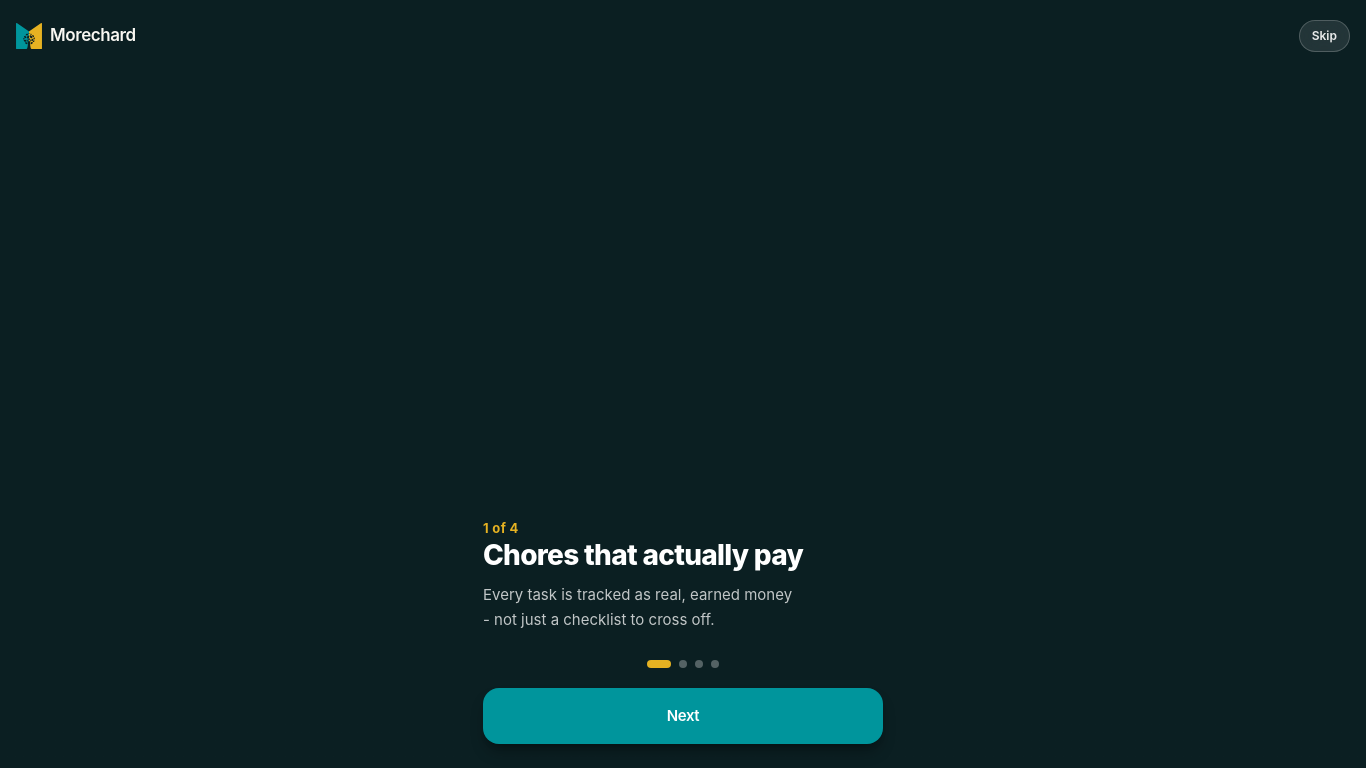
Scenario: OnboardingCarousel › jumps directly to a slide when its dot is tapped
Click the tab named "Go to slide 3" at (699, 664), box [695,660,703,668]
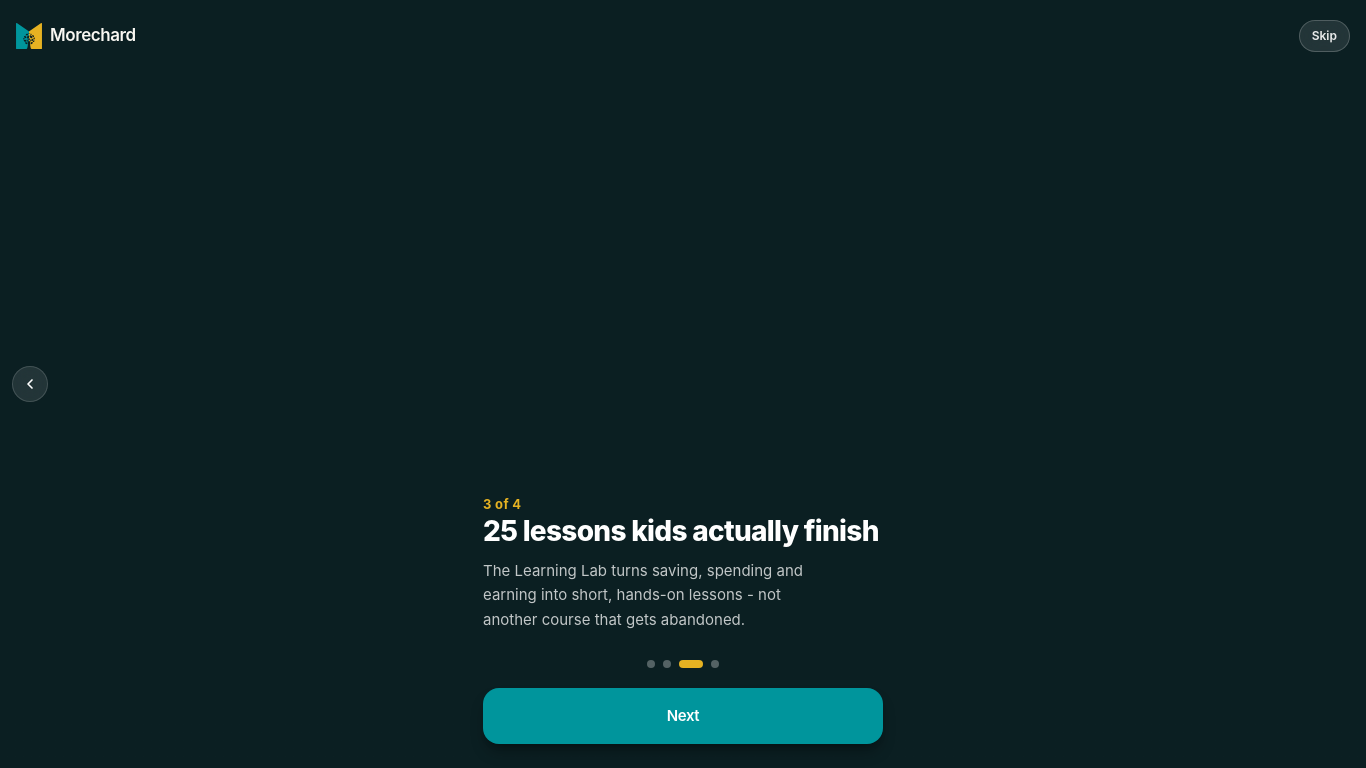
Expected: the heading "25 lessons kids actually finish" is shown, [483,515,883,547]
